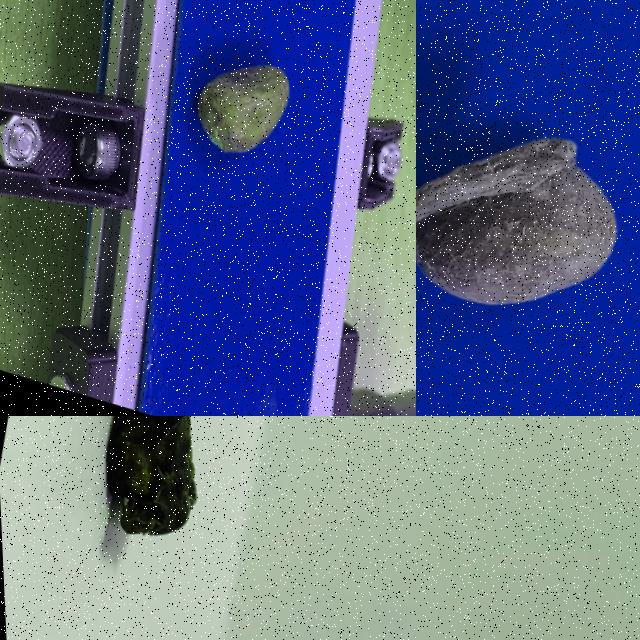Agglomerated_cocoabeans: (416, 0, 639, 415)
Fine_cocoabeans: (96, 0, 375, 300)
Flat_cocoabeans: (41, 416, 264, 602)
